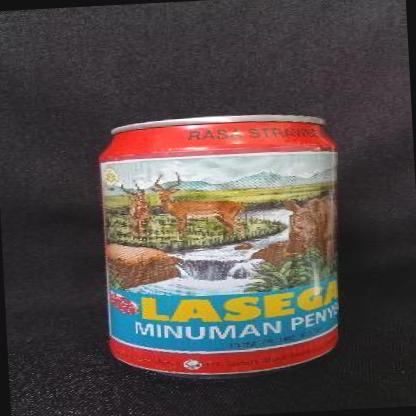alumunium_can: (96, 109, 350, 384)
